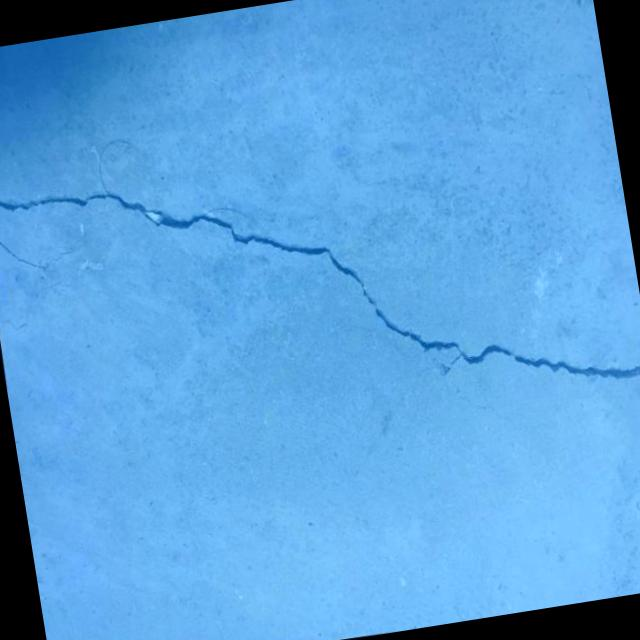crack: (0, 97, 640, 476), (0, 273, 89, 338), (0, 216, 85, 281)
